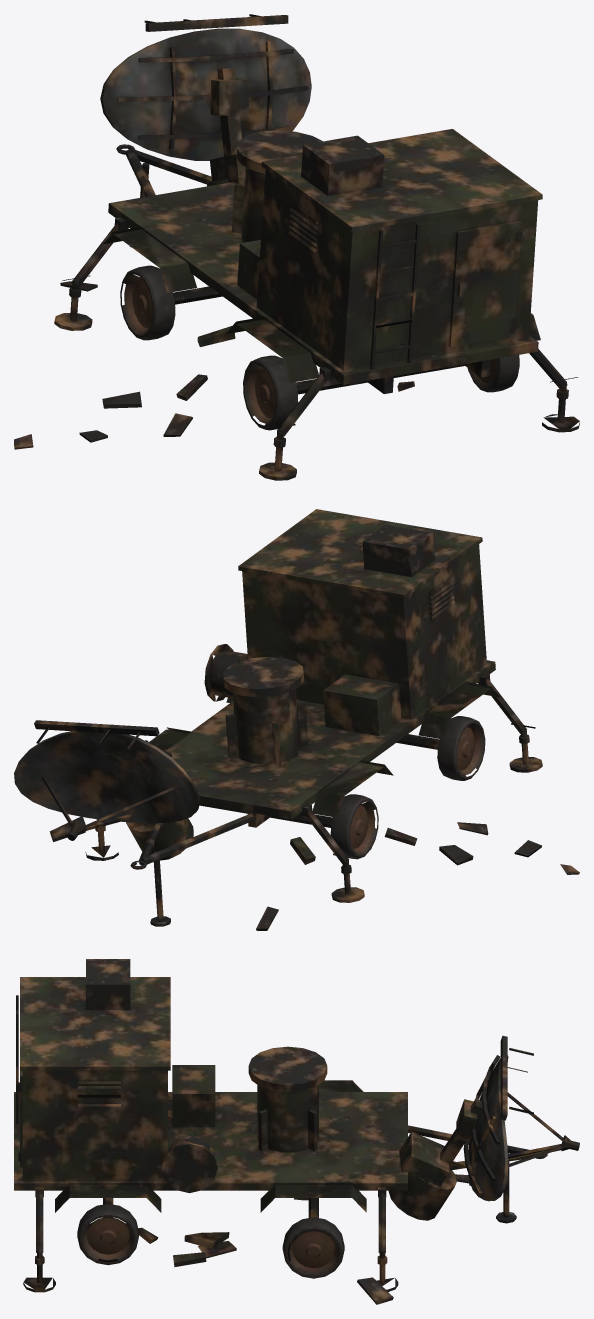
Rendered from radar_destroyed.glb.
3 renders of one model, top to bottom at view 1: azimuth 30°, elevation 25°; view 2: azimuth 150°, elevation 25°; view 3: azimuth 270°, elevation 25°, orthographic. The views are drawn at different scales.
Visible parts, largest first — view 1: trailer, dish, debris; view 2: trailer, dish, debris; view 3: trailer, dish, debris.
Boxes of the visible parts, <box> form: trailer: <box>54,129,579,480</box>; dish: <box>100,14,311,186</box>; debris: <box>14,281,414,449</box>; trailer: <box>85,509,542,926</box>; dish: <box>14,720,200,860</box>; debris: <box>49,816,579,930</box>; trailer: <box>14,959,547,1292</box>; dish: <box>388,1035,579,1220</box>; debris: <box>138,1174,469,1304</box>.
Bounding box in the file's own units: 5.75 × 3.17 × 6.61.
Materials: 1 (1 with a texture image).
